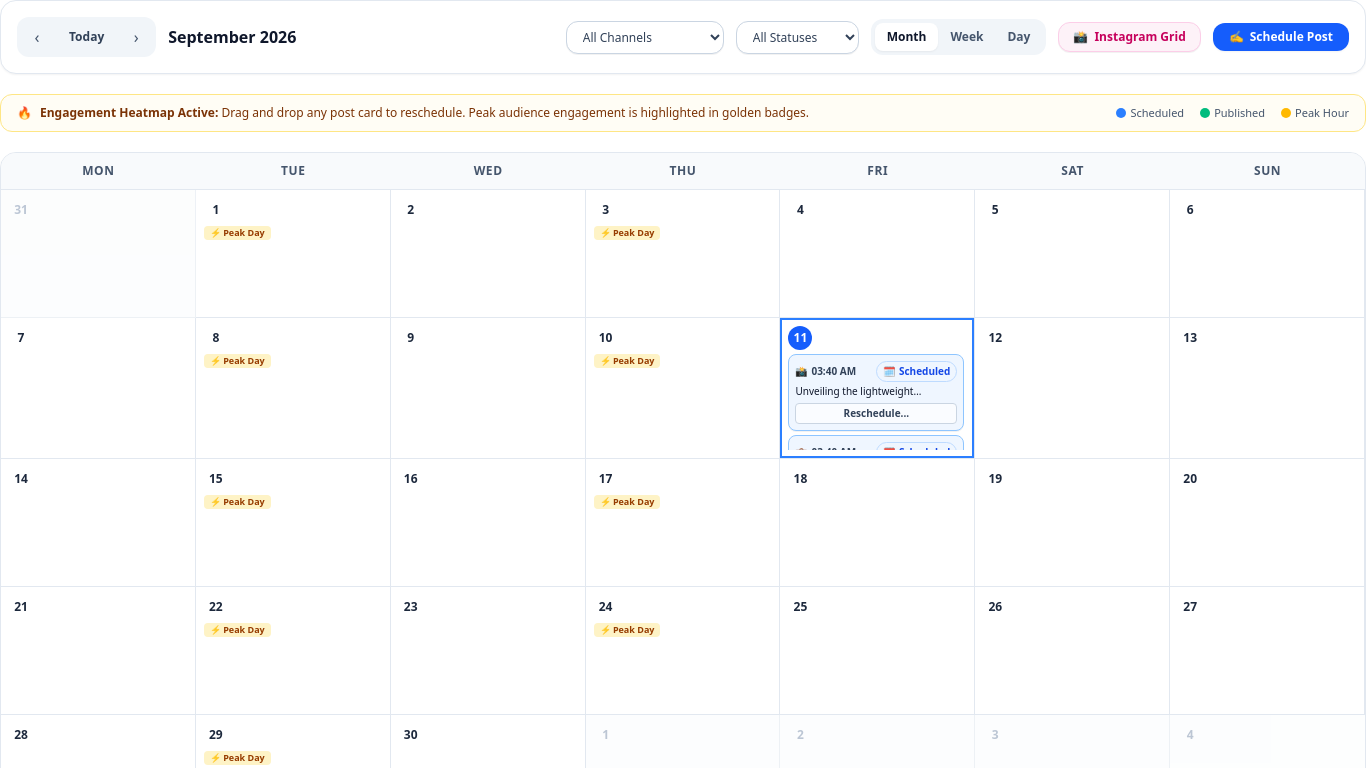
SocialCalendarPage and Social Media Suite › switches between Month, Week, and Day views
Expected: the button "Today" is shown, [57,25,116,49]
Note: Switch to Week view
Click the button "week": (967, 37) [938,23,996,51]
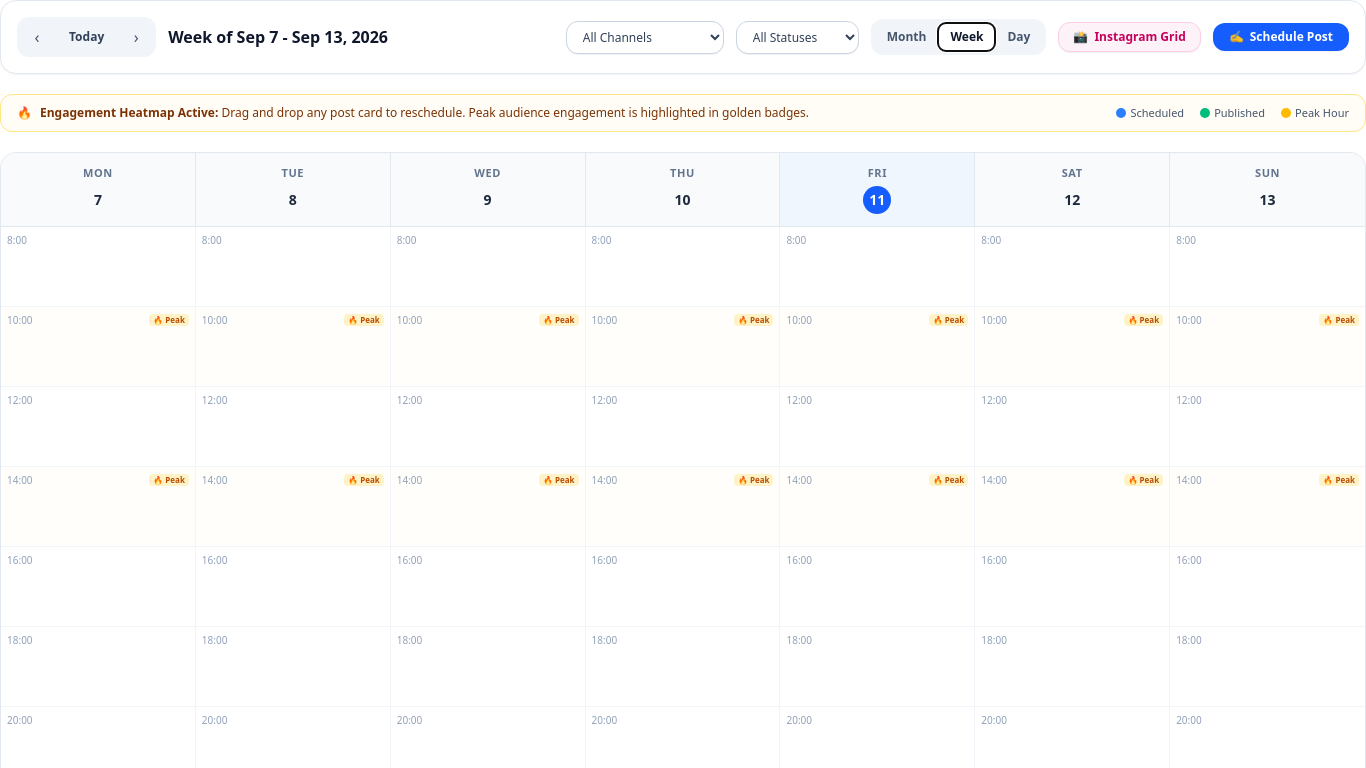
Expected: the heading "Week of Sep 7 - Sep 13, 2026" is shown, [168,25,388,49]
Note: Switch to Day view
Click the button "day": (1019, 37) [996,23,1042,51]
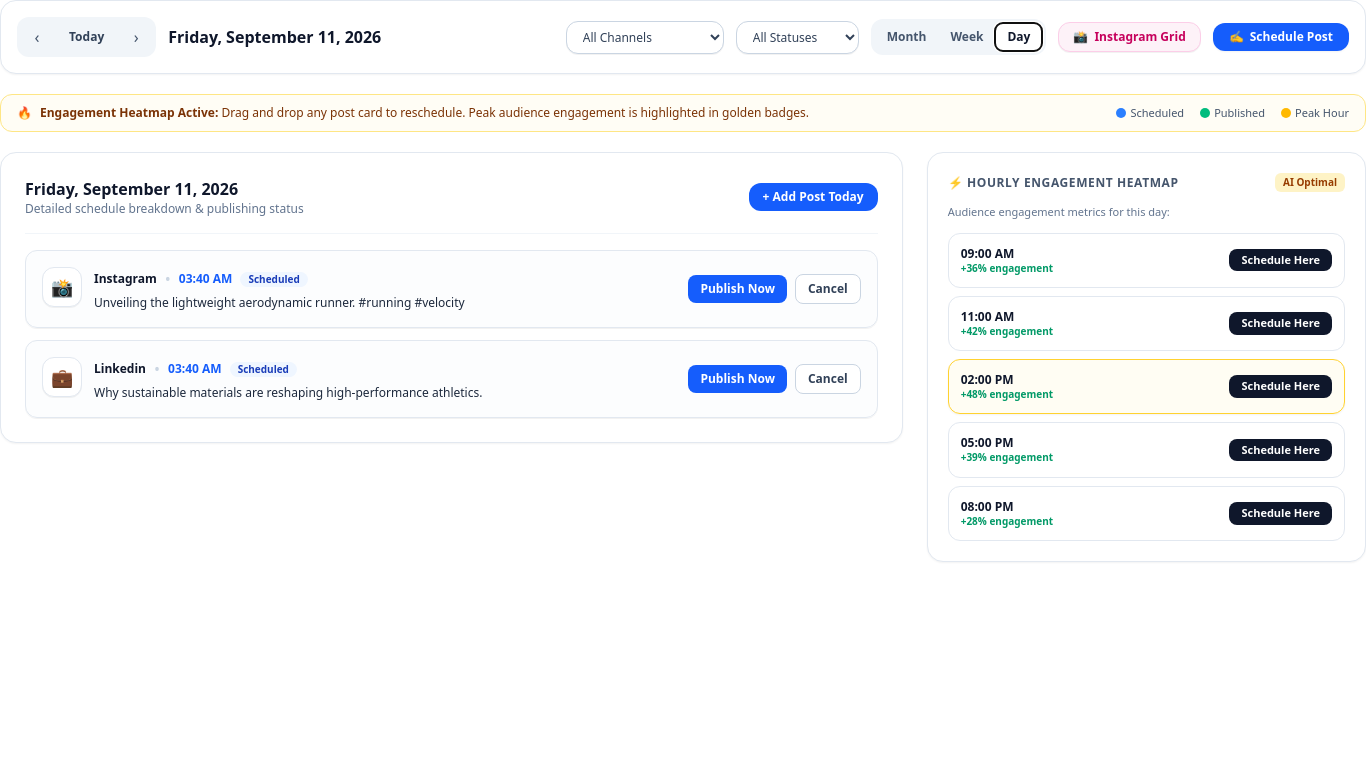
Expected: the heading "⚡ Hourly Engagement Heatmap" is shown, [948,174,1179,190]
Expected: the button "+ Add Post Today" is shown, [749,183,878,211]
